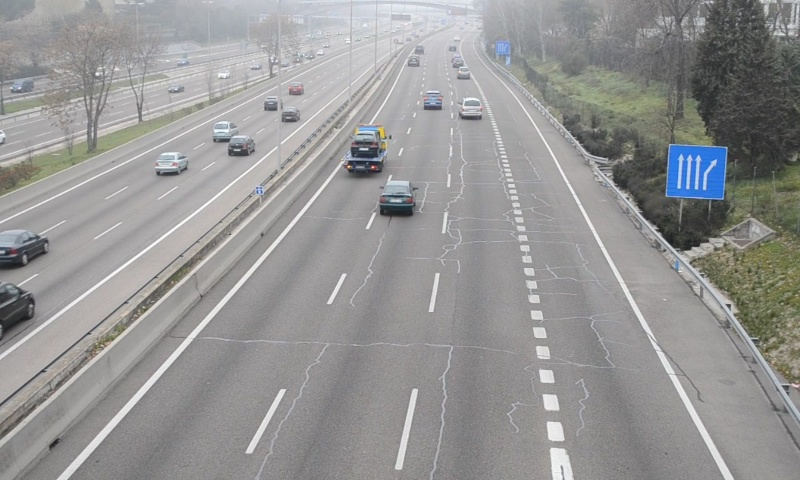car: (378, 180, 415, 211), (458, 98, 484, 119), (422, 90, 443, 110)
small-truck: (343, 125, 388, 174)
